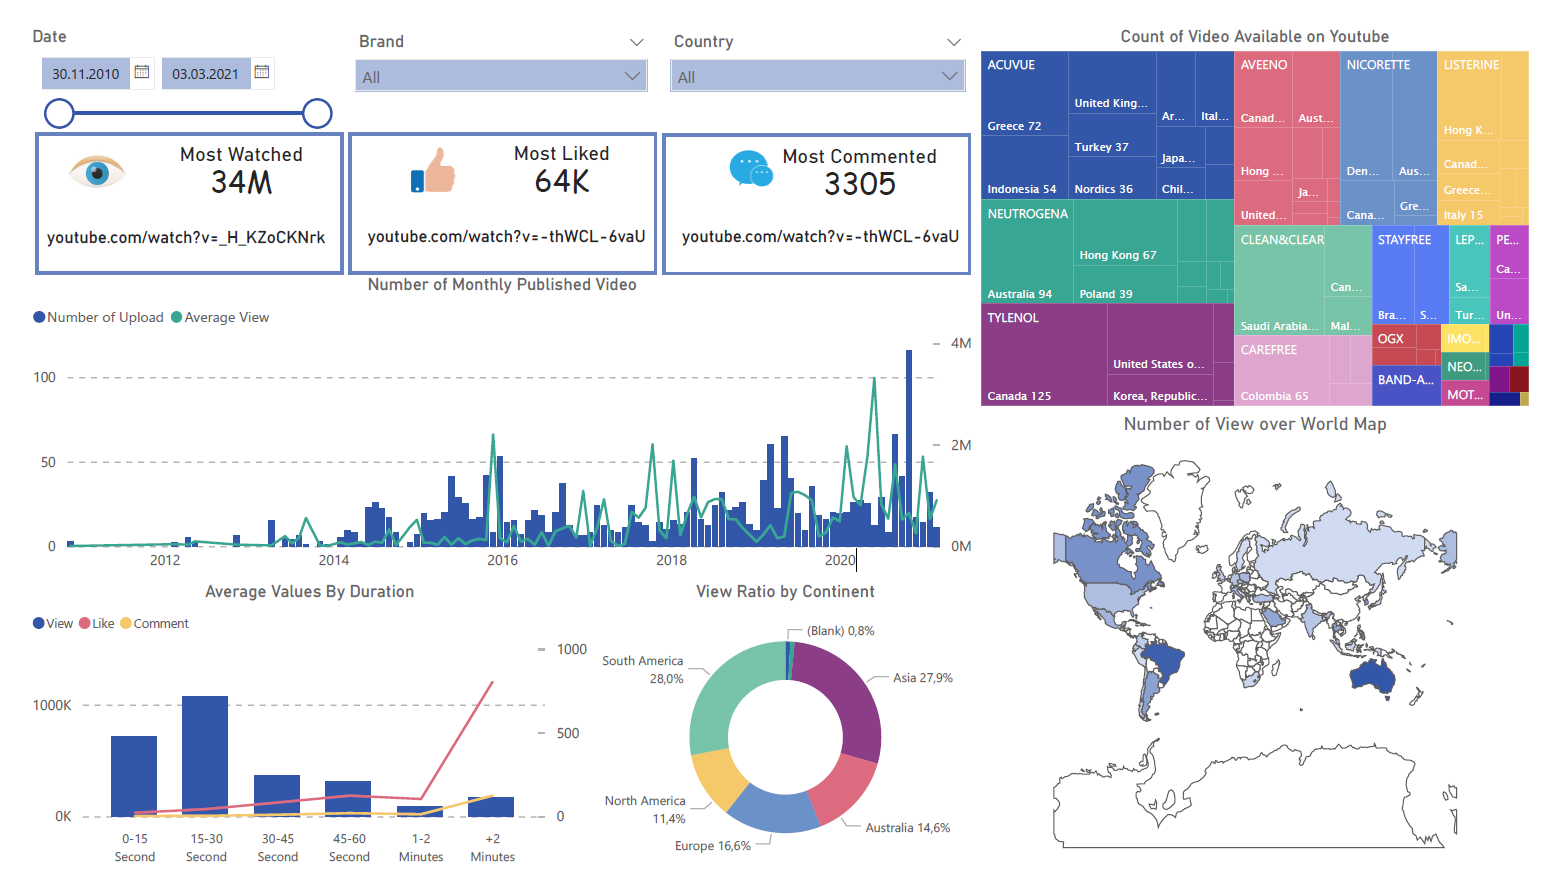

This screenshot's page, from the dashboard's own definition file:
{"tool":"powerbi","page":{"name":"General Overview","canvas":[1280,720],"ordinal":0},"visuals":[{"type":"shapeMap","title":"Number of View over World Map","fields":{"Category":["Available Videos and Details.Country Code"],"Value":["Sum(Available Videos and Details.View)"]},"box":[805.8,327.1,474.2,392.7],"z":0},{"type":"slicer","title":"Date","fields":{"Values":["Available Videos and Details.Publish Date"]},"box":[0,0,268.4,91],"z":1000},{"type":"treemap","title":"Count of Video Available on Youtube","fields":{"Group":["Available Videos and Details.Brand"],"Values":["CountNonNull(Available Videos and Details.Video URL)"],"Details":["Available Videos and Details.Market"]},"box":[805.8,0,474.2,327.1],"z":2000},{"type":"lineClusteredColumnComboChart","title":"Average Values By Duration","fields":{"Category":["Sort Order Duration.Duration Category"],"Y":["Avg(Available Videos and Details.View)"],"Y2":["Avg(Available Videos and Details.Like)","Avg(Available Videos and Details.Comment)"]},"box":[0,471,480.9,248.3],"z":3000},{"type":"slicer","fields":{"Values":["Available Videos and Details.Brand"]},"box":[268.8,0,267.9,90.9],"z":4000},{"type":"slicer","fields":{"Values":["Available Videos and Details.Market"]},"box":[536.7,0,269.8,90.9],"z":5000},{"type":"group","id":"g1","title":"Group 1","box":[271.7,97.6,270.7,113.8],"z":6000},{"type":"image","box":[299.7,97.9,93.8,49.7],"z":6000,"group":"g1"},{"type":"group","id":"g2","title":"Group 2","box":[0,95.2,271.7,117.2],"z":7000},{"type":"card","title":"Most Liked","fields":{"Values":["Max(Available Videos and Details.Like)"]},"box":[365.4,97.6,177.2,49.9],"z":7000,"group":"g1"},{"type":"card","title":"Most Watched","fields":{"Values":["Max(Available Videos and Details.View)"]},"box":[93.7,98.6,177.2,49.9],"z":7000,"group":"g4"},{"type":"card","title":"Most Commented","fields":{"Values":["Max(Available Videos and Details.Comment)"]},"box":[621.2,99.9,172.9,50],"z":7000,"group":"g3"},{"type":"group","id":"g3","title":"Group 1","box":[542.4,99.9,264.5,110.6],"z":8000},{"type":"card","fields":{"Values":["Min(Available Videos and Details.Video URL)"]},"box":[271.7,147.1,270.7,64.1],"z":8000,"group":"g1"},{"type":"card","fields":{"Values":["Min(Available Videos and Details.Video URL)"]},"box":[0,148.1,270.7,64.1],"z":8000,"group":"g4"},{"type":"card","fields":{"Values":["Min(Available Videos and Details.Video URL)"]},"box":[542.4,148.6,264.5,61.9],"z":8000,"group":"g3"},{"type":"image","box":[591.2,92.6,49.3,54.2],"z":9000},{"type":"group","id":"g4","title":"Group 1","box":[0,98.6,271.7,113.8],"z":9000,"group":"g2"},{"type":"shape","box":[7.9,90.7,261.1,120.2],"z":10000},{"type":"image","box":[25.8,95.2,67.9,57.4],"z":10000,"group":"g2"},{"type":"shape","box":[274,90.7,261.1,120.2],"z":11000},{"type":"shape","box":[540.4,91,261.1,120.1],"z":12000},{"type":"donutChart","title":"View Ratio by Continent","fields":{"Series":["Country Code-Population.Continent"],"Y":["Sum(Available Videos and Details.View)"]},"box":[480.9,471,326.2,248.3],"z":13000},{"type":"lineClusteredColumnComboChart","title":"Number of Monthly Published Video","fields":{"Category":["Available Videos and Details.Publish Date (bins)"],"Y2":["Avg(Available Videos and Details.View)"],"Y":["CountNonNull(Available Videos and Details.Video URL)"]},"box":[0,210.9,808,260.1],"z":14000}]}

Visuals, with their boxes in screenshot pixels (x1, y1, x2, y2), scaled from the page's 1280x720 canvas onto the 1557x884 screenshot:
"Number of View over World Map" shapeMap: {"left": 980, "top": 402, "right": 1556, "bottom": 883}
"Date" slicer: {"left": 0, "top": 0, "right": 326, "bottom": 112}
"Count of Video Available on Youtube" treemap: {"left": 980, "top": 0, "right": 1556, "bottom": 402}
"Average Values By Duration" lineClusteredColumnComboChart: {"left": 0, "top": 578, "right": 585, "bottom": 883}
slicer - Available Videos and Details.Brand: {"left": 327, "top": 0, "right": 653, "bottom": 112}
slicer - Available Videos and Details.Market: {"left": 653, "top": 0, "right": 981, "bottom": 112}
"Group 1" group: {"left": 330, "top": 120, "right": 660, "bottom": 260}
image: {"left": 365, "top": 120, "right": 479, "bottom": 181}
"Group 2" group: {"left": 0, "top": 117, "right": 330, "bottom": 261}
"Most Liked" card: {"left": 444, "top": 120, "right": 660, "bottom": 181}
"Most Watched" card: {"left": 114, "top": 121, "right": 330, "bottom": 182}
"Most Commented" card: {"left": 756, "top": 123, "right": 966, "bottom": 184}
"Group 1" group: {"left": 660, "top": 123, "right": 982, "bottom": 258}
card - Min(Available Videos and Details.Video URL): {"left": 330, "top": 181, "right": 660, "bottom": 259}
card - Min(Available Videos and Details.Video URL): {"left": 0, "top": 182, "right": 329, "bottom": 261}
card - Min(Available Videos and Details.Video URL): {"left": 660, "top": 182, "right": 982, "bottom": 258}
image: {"left": 719, "top": 114, "right": 779, "bottom": 180}
"Group 1" group: {"left": 0, "top": 121, "right": 330, "bottom": 261}
shape: {"left": 10, "top": 111, "right": 327, "bottom": 259}
image: {"left": 31, "top": 117, "right": 114, "bottom": 187}
shape: {"left": 333, "top": 111, "right": 651, "bottom": 259}
shape: {"left": 657, "top": 112, "right": 975, "bottom": 259}
"View Ratio by Continent" donutChart: {"left": 585, "top": 578, "right": 982, "bottom": 883}
"Number of Monthly Published Video" lineClusteredColumnComboChart: {"left": 0, "top": 259, "right": 983, "bottom": 578}
